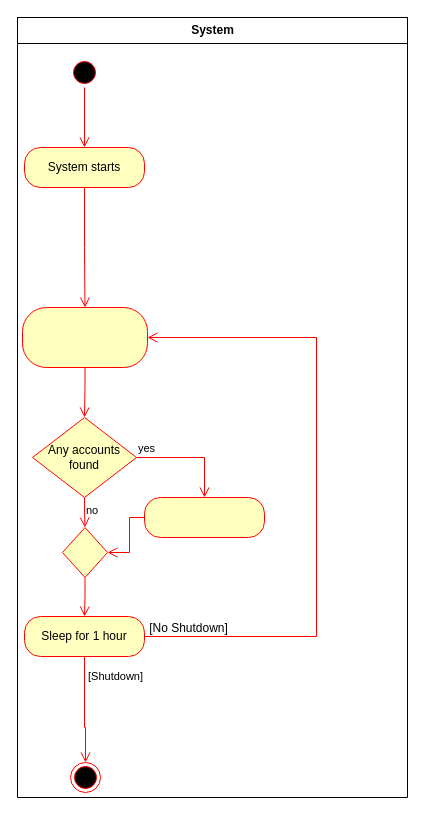
The diagram is 425 pixels wide and 815 high, and some of its shapes have lost their labels. Here are the shapes that lost their labels. From the top down, the box of each, then its label:
(22, 306, 148, 368): Check for temporary accounts older than 24 hours
(144, 496, 264, 538): Delete accounts
